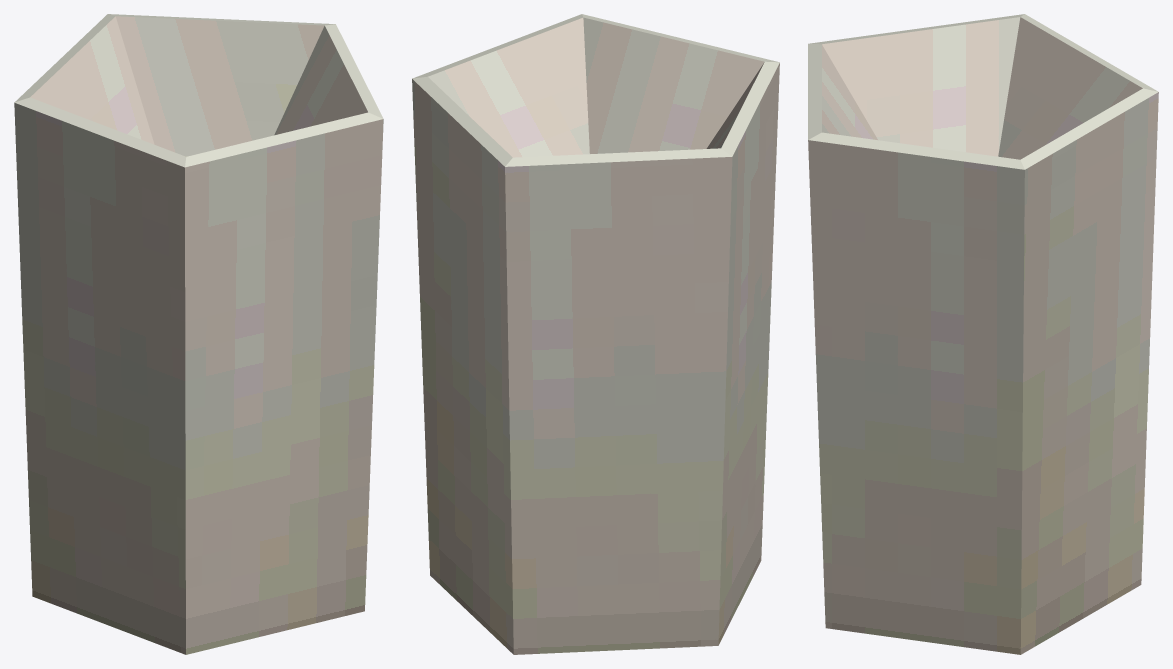
Rendered from glass.obj.
3 renders of one model, left to right at view 1: azimuth 30°, elevation 25°; view 2: azimuth 150°, elevation 25°; view 3: azimuth 270°, elevation 25°, orthographic.
Visible parts, largest first — view 1: glass; view 2: glass; view 3: glass.
Part boxes in pixels (x1,y1,x2,y2): glass: (14,14,383,654); glass: (412,14,779,654); glass: (808,14,1158,654).
Bounding box in the file's own units: 0.1116 × 0.1658 × 0.1062.
